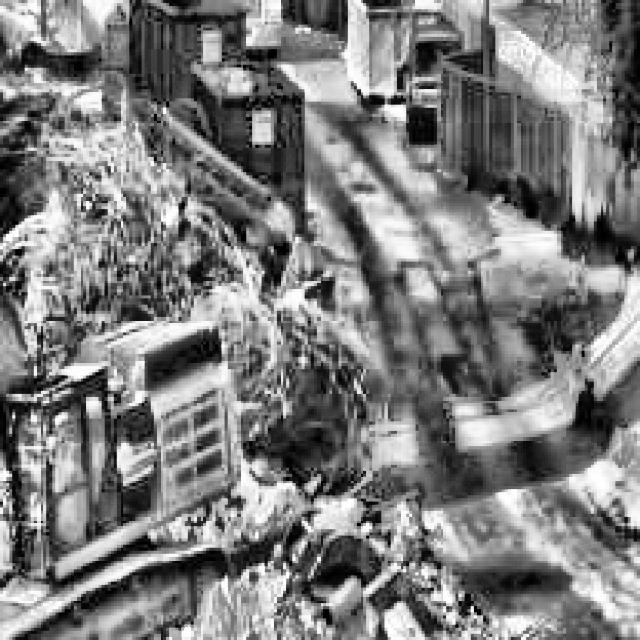dump_truck: (138, 0, 271, 40)
excavator: (0, 200, 237, 640)
